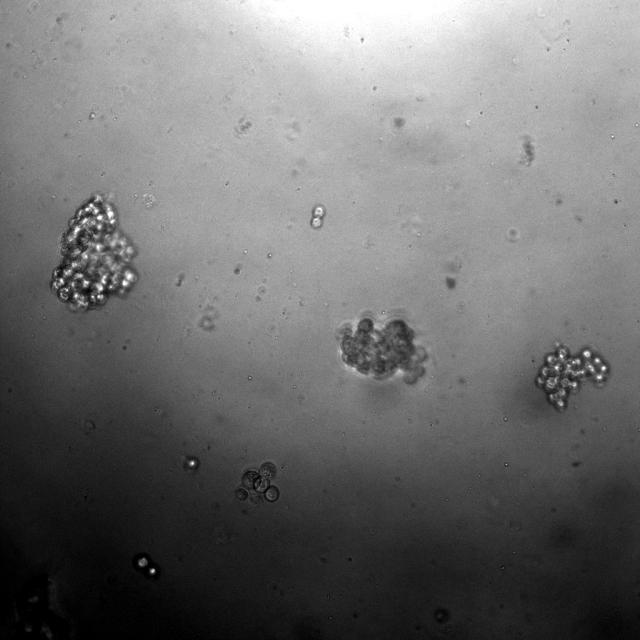organoid: (51, 194, 136, 310), (336, 314, 428, 383), (536, 343, 609, 411), (234, 462, 279, 505), (311, 205, 326, 228)
